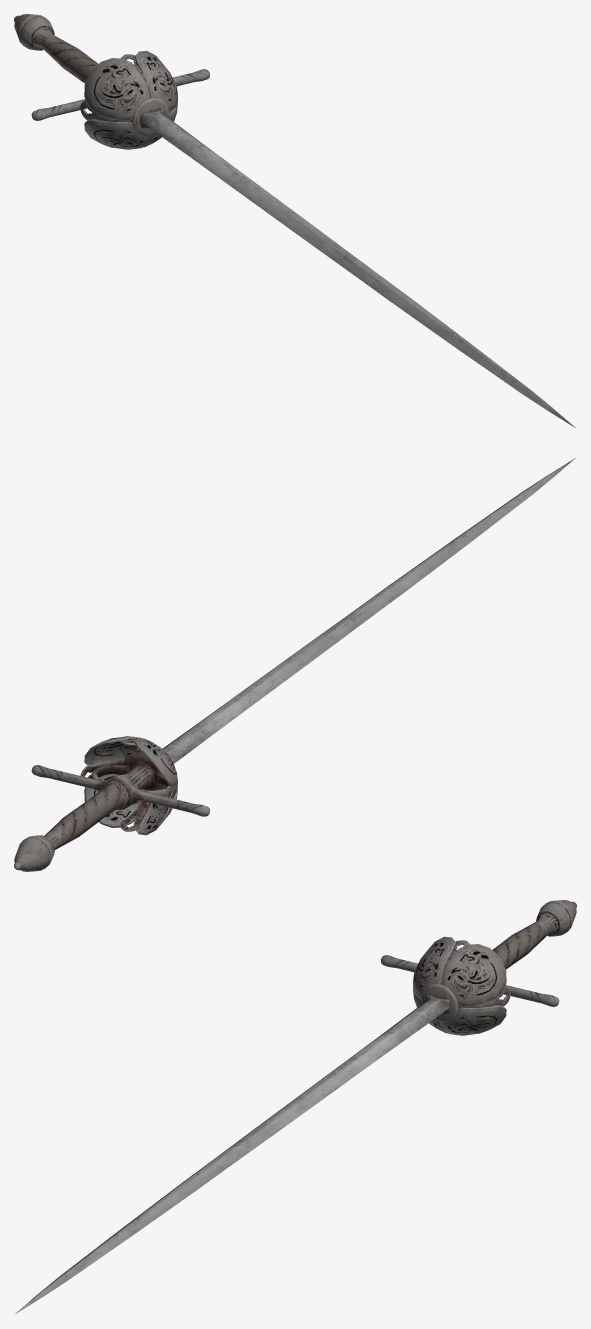
The picture shows the model from 3 angles, top to bottom: view 1: azimuth 30°, elevation 25°; view 2: azimuth 150°, elevation 25°; view 3: azimuth 330°, elevation 25°; orthographic projection.
Visible parts, largest first — view 1: WP_A_0303, WP_A_0303.001; view 2: WP_A_0303, WP_A_0303.001; view 3: WP_A_0303, WP_A_0303.001.
Part boxes in pixels (x1=…): WP_A_0303: x1=14, y1=14, x2=575, y2=427; WP_A_0303.001: x1=84, y1=50, x2=177, y2=149; WP_A_0303: x1=14, y1=458, x2=575, y2=871; WP_A_0303.001: x1=84, y1=736, x2=177, y2=835; WP_A_0303: x1=15, y1=900, x2=576, y2=1313; WP_A_0303.001: x1=413, y1=936, x2=506, y2=1035.
Size of the model in its own units: 35.15 by 16.81 by 192.
2 materials, 2 textured.
